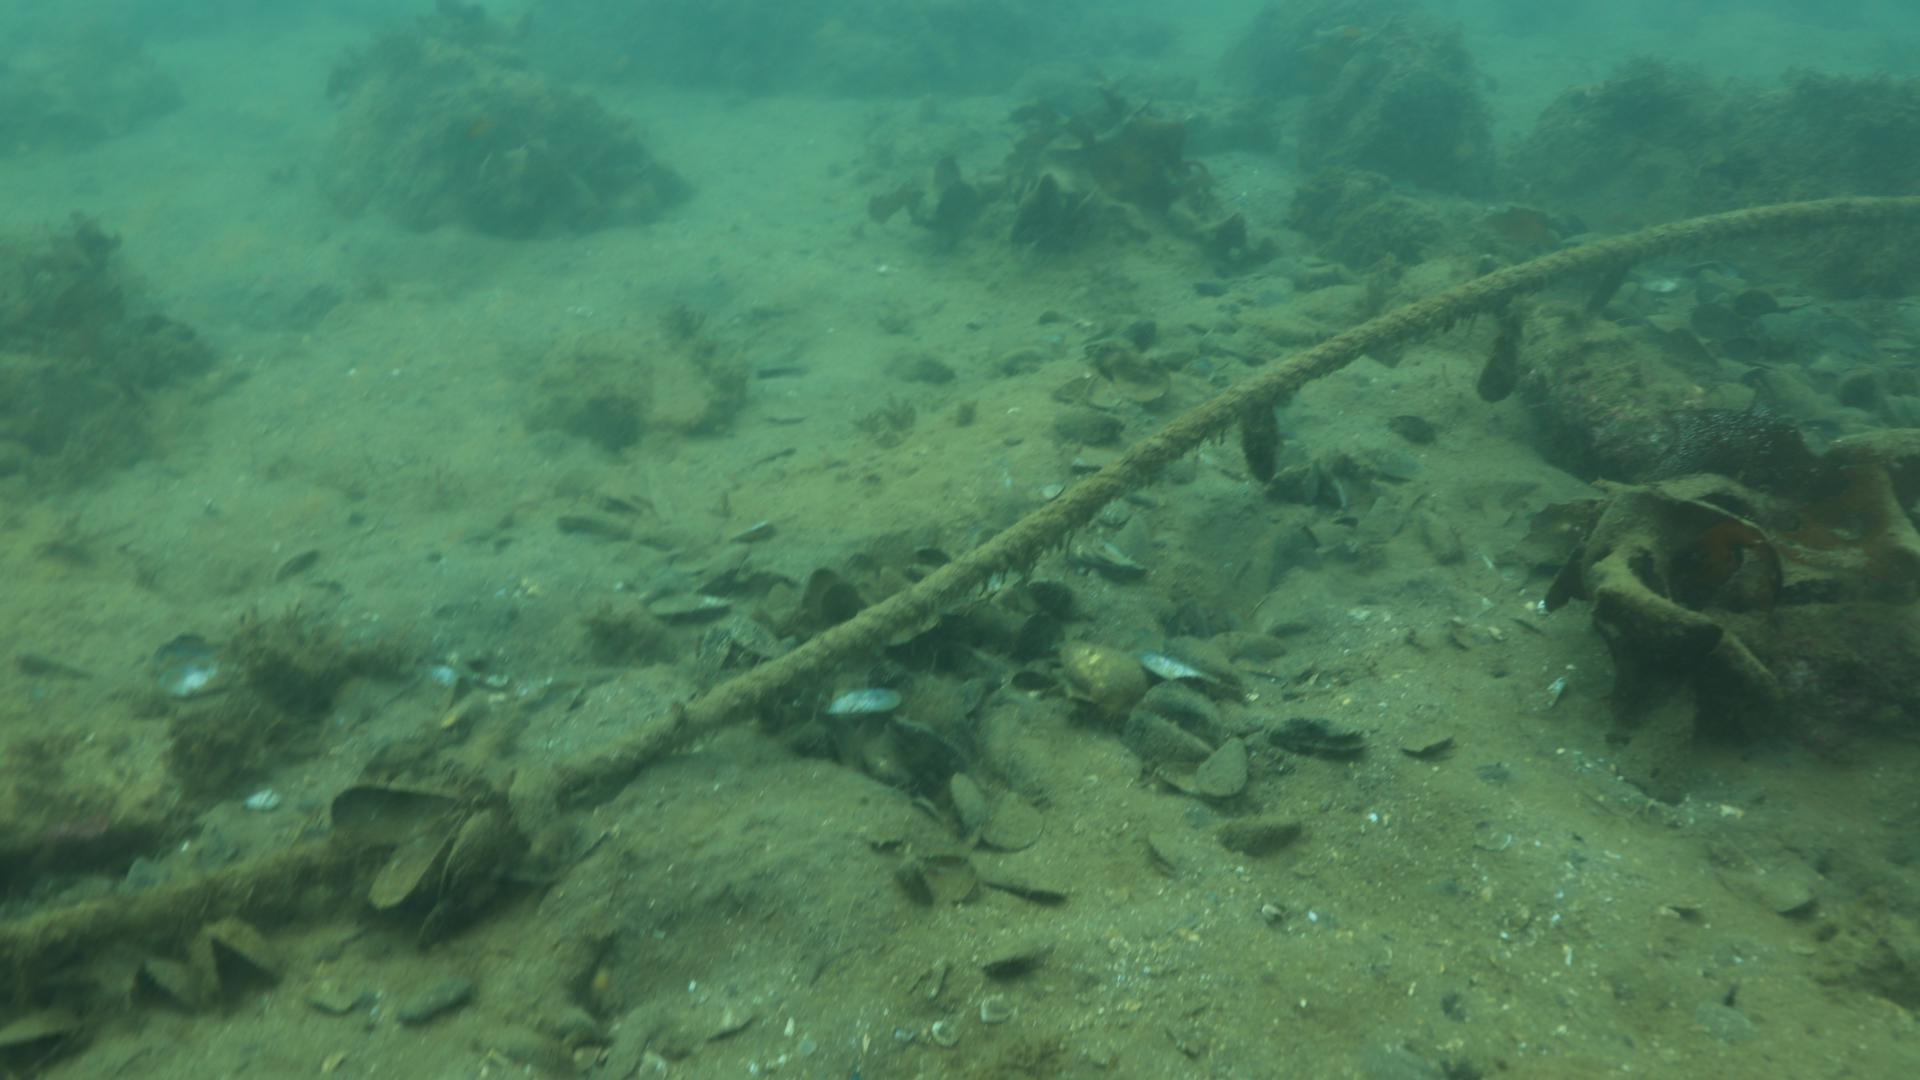rope: (0, 187, 1920, 980)
